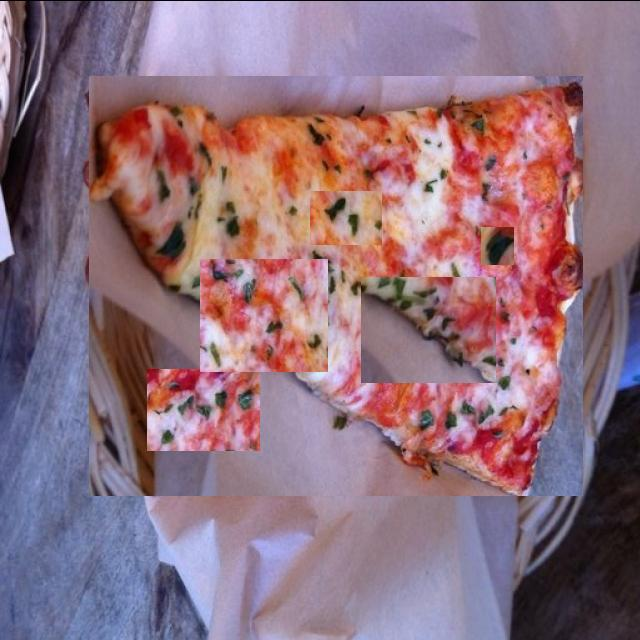basil: (200, 256, 328, 371), (362, 276, 498, 382), (147, 368, 260, 450), (206, 110, 300, 188), (426, 140, 491, 237), (310, 190, 382, 244), (171, 110, 207, 200), (481, 226, 514, 264)
pizza: (89, 75, 583, 495)
